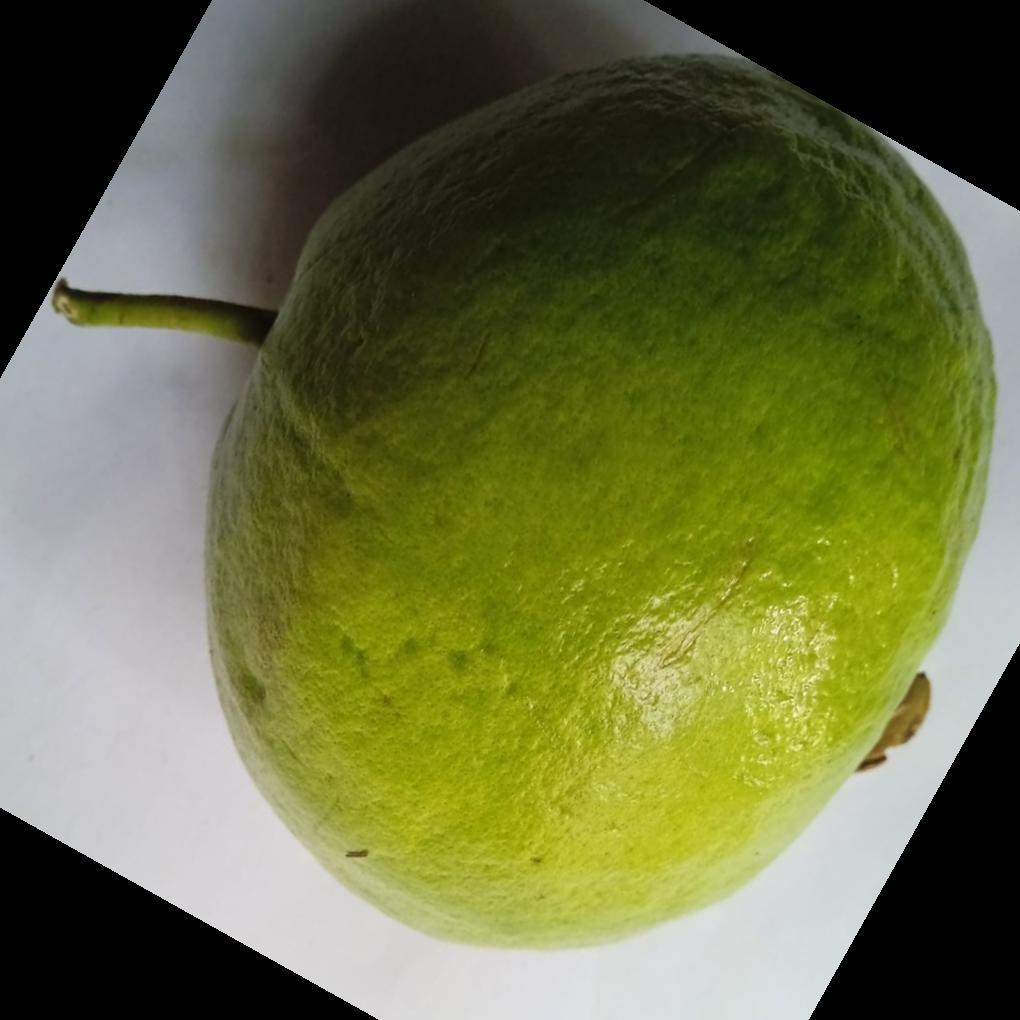FreshGuava: (200, 46, 1000, 957)
